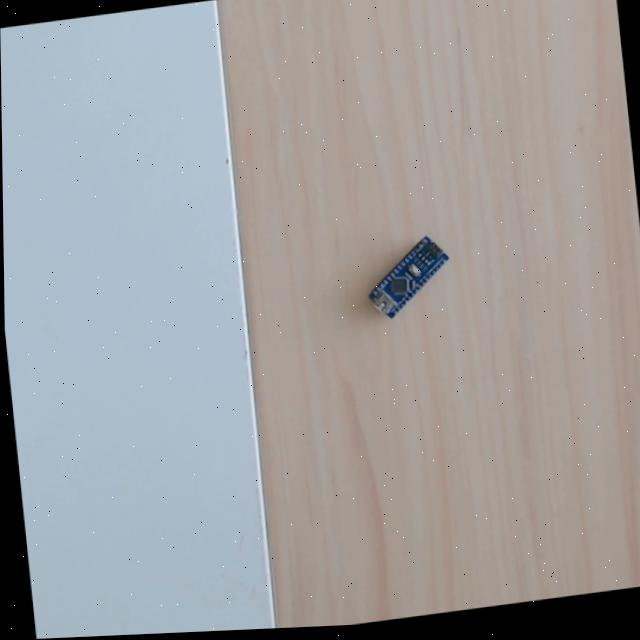Arduino-Nano: (364, 228, 454, 322)
